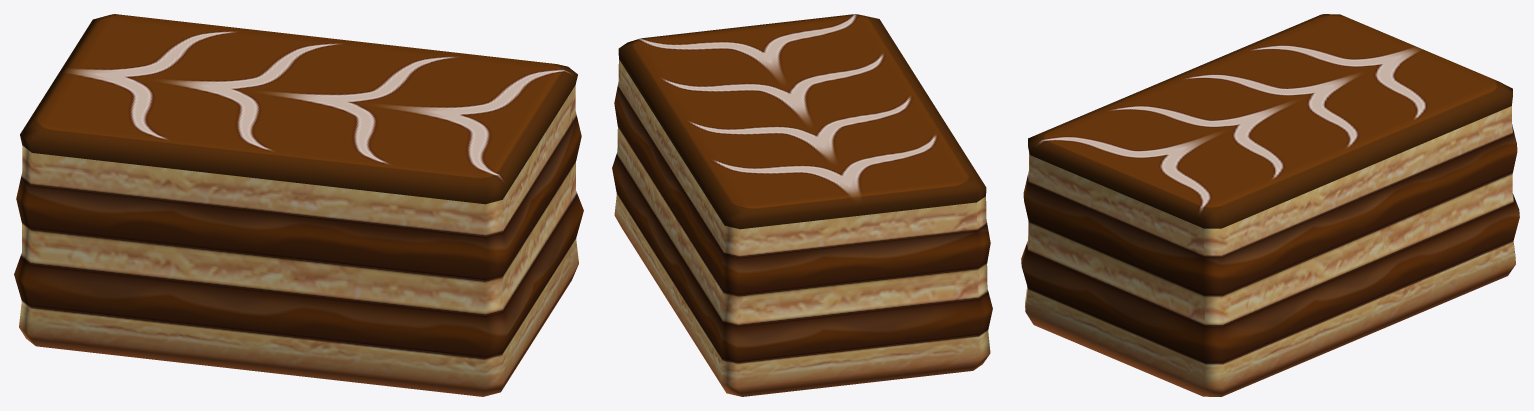
File: 009-Napoleons_01.FBX
3 views of the same model, side by side, from view 1: azimuth 30°, elevation 25°; view 2: azimuth 150°, elevation 25°; view 3: azimuth 270°, elevation 25° (orthographic). The views are drawn at different scales.
Visible parts, largest first — view 1: 009-Napoleons_01; view 2: 009-Napoleons_01; view 3: 009-Napoleons_01.
Part boxes in pixels (bbox=[...]): 009-Napoleons_01: bbox=[14, 14, 583, 396]; 009-Napoleons_01: bbox=[612, 14, 992, 396]; 009-Napoleons_01: bbox=[1021, 14, 1519, 396].
Size of the model in its own units: 17.75 by 7.29 by 17.75.
